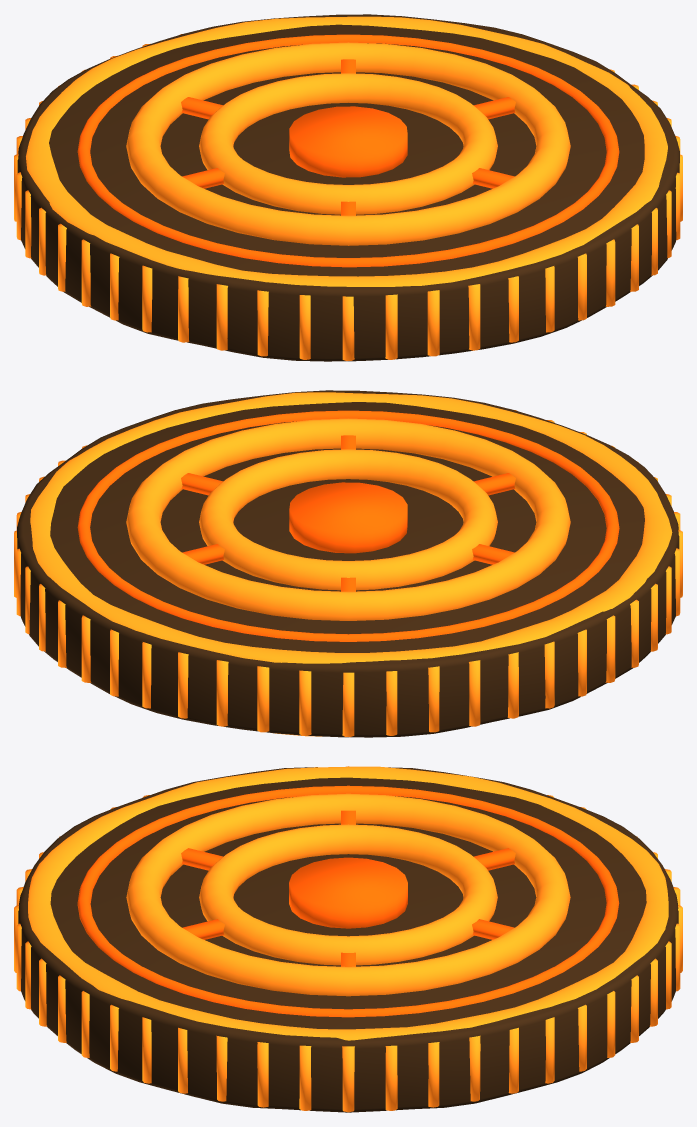
The model's file is token-blast_cap.glb.
The picture shows the model from 3 angles, top to bottom: view 1: azimuth 30°, elevation 25°; view 2: azimuth 150°, elevation 25°; view 3: azimuth 270°, elevation 25°; orthographic projection.
Parts seen in each view (by area): view 1: TokenBody, Torus.004, TopRim, Torus.005, TopRim_Inner, Cylinder, EdgeReed_34, EdgeReed_33, EdgeReed_35, EdgeReed_32, EdgeReed_29, EdgeReed_31 (+15 smaller); view 2: TokenBody, Torus.004, TopRim, Torus.005, TopRim_Inner, Cylinder, EdgeReed_14, EdgeReed_15, EdgeReed_13, EdgeReed_16, EdgeReed_19, EdgeReed_17 (+15 smaller); view 3: TokenBody, Torus.004, TopRim, Torus.005, TopRim_Inner, Cylinder, EdgeReed_0, EdgeReed_1, EdgeReed_47, EdgeReed_2, EdgeReed_46, EdgeReed_3 (+16 smaller).
Part boxes in pixels (x1,y1,x2,y2): TokenBody: [17, 14, 679, 361]; Torus.004: [126, 42, 570, 245]; TopRim: [26, 16, 667, 286]; Torus.005: [199, 73, 497, 214]; TopRim_Inner: [77, 34, 619, 267]; Cylinder: [289, 106, 407, 177]; EdgeReed_34: [427, 290, 439, 356]; EdgeReed_33: [385, 294, 397, 359]; EdgeReed_35: [468, 284, 480, 350]; EdgeReed_32: [342, 296, 354, 360]; EdgeReed_29: [216, 284, 227, 350]; EdgeReed_31: [299, 295, 310, 359]; TokenBody: [17, 390, 679, 737]; Torus.004: [126, 418, 570, 620]; TopRim: [30, 392, 672, 663]; Torus.005: [199, 449, 497, 590]; TopRim_Inner: [77, 410, 619, 641]; Cylinder: [289, 482, 407, 553]; EdgeReed_14: [257, 666, 269, 732]; EdgeReed_15: [299, 670, 311, 735]; EdgeReed_13: [216, 660, 228, 726]; EdgeReed_16: [342, 672, 354, 737]; EdgeReed_19: [469, 660, 480, 726]; EdgeReed_17: [386, 671, 397, 735]; TokenBody: [18, 767, 678, 1112]; Torus.004: [126, 793, 570, 996]; TopRim: [28, 766, 668, 1040]; Torus.005: [199, 824, 497, 965]; TopRim_Inner: [77, 785, 619, 1017]; Cylinder: [289, 857, 407, 928]; EdgeReed_0: [342, 1046, 354, 1112]; EdgeReed_1: [385, 1045, 397, 1110]; EdgeReed_47: [299, 1045, 311, 1110]; EdgeReed_2: [428, 1042, 439, 1107]; EdgeReed_46: [257, 1042, 268, 1107]; EdgeReed_3: [469, 1035, 480, 1101].
Size of the model in its own units: 2.02 by 0.3836 by 2.02.
